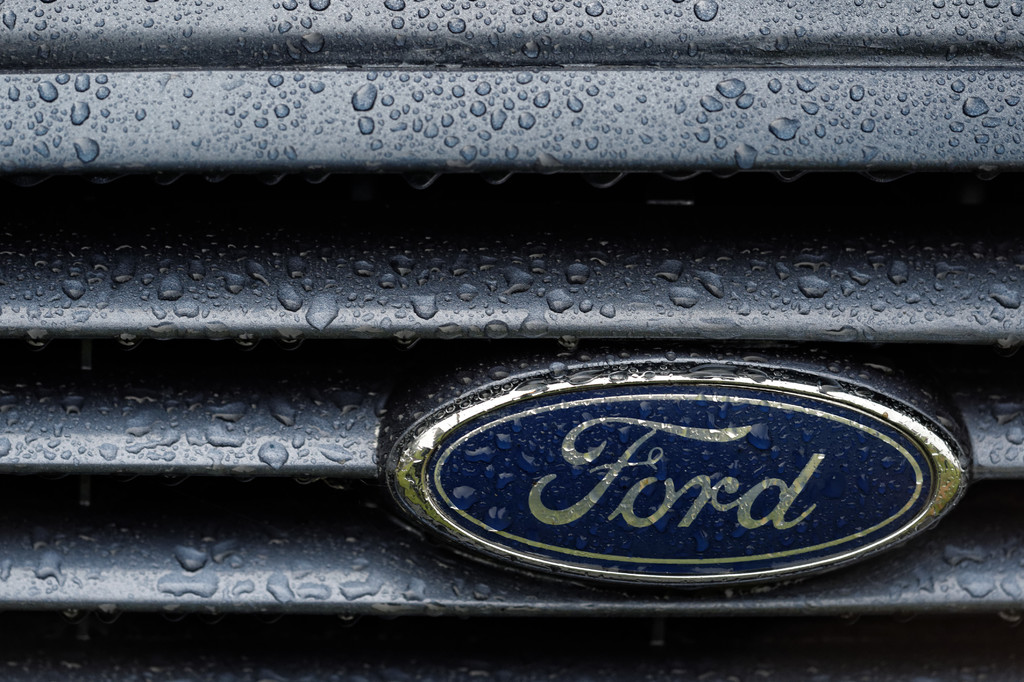Car: (0, 0, 1020, 681)
